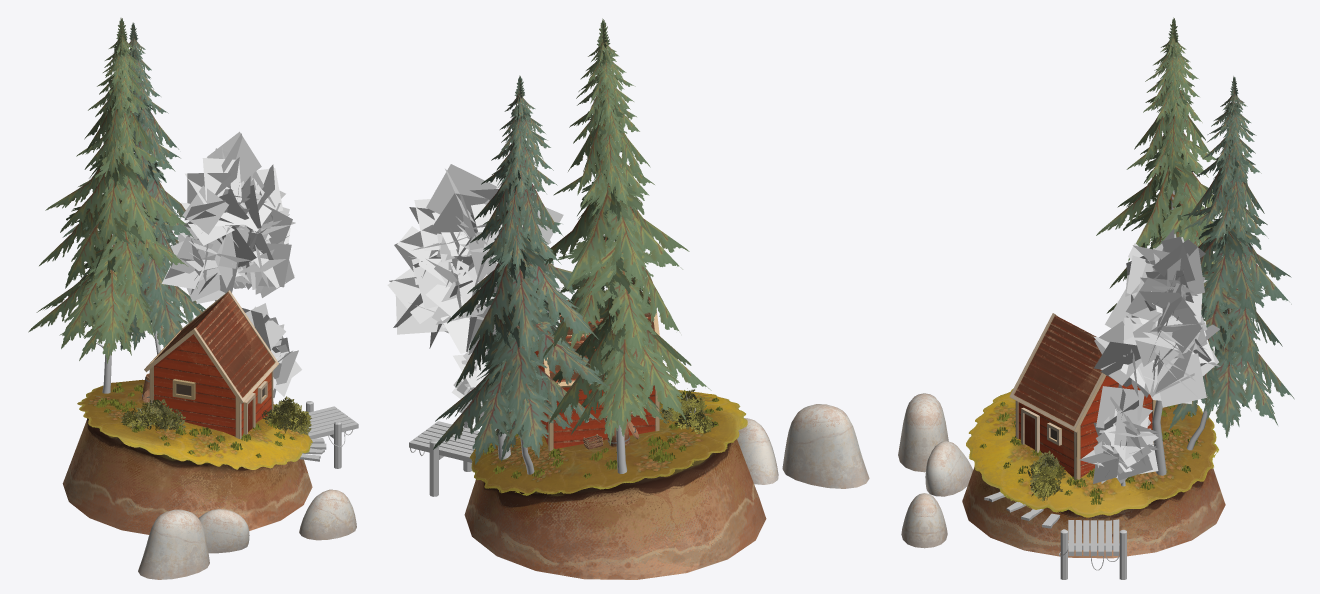
3 views of the same model, side by side, from view 1: azimuth 30°, elevation 25°; view 2: azimuth 150°, elevation 25°; view 3: azimuth 270°, elevation 25° (orthographic). The views are drawn at different scales.
Visible parts, largest first — view 1: Plane.016, Cylinder.002, Plane.089, Cube.016, Cylinder.001, Cube.010, Plane.002, Plane.305, Plane.051, Cube.015, Plane.014; view 2: Plane.016, Plane.002, Cylinder.002, Plane.089, Cylinder.001, Cube.010, Cube.016, Cube.015, Plane.014, Plane.305, Plane.051, Cylinder.008; view 3: Plane.002, Plane.089, Cylinder.001, Plane.016, Cube.016, Cylinder.002, Cube.010, Plane.051, Cube.015, Plane.014, Plane.305, Cylinder.008.
Boxes of the visible parts, box(x1,y1,x2,y2) form: Plane.016: box(28, 18, 190, 363); Cylinder.002: box(62, 418, 312, 534); Plane.089: box(161, 131, 295, 303); Cube.016: box(144, 290, 278, 438); Cylinder.001: box(77, 379, 312, 469); Cube.010: box(138, 489, 356, 579); Plane.002: box(62, 22, 205, 350); Plane.305: box(121, 396, 311, 435); Plane.051: box(242, 303, 301, 397); Cube.015: box(299, 401, 358, 468); Plane.014: box(96, 382, 294, 457); Plane.016: box(543, 18, 711, 445); Plane.002: box(433, 75, 610, 464); Cylinder.002: box(464, 439, 766, 579); Plane.089: box(387, 164, 563, 354); Cylinder.001: box(469, 390, 747, 495); Cube.010: box(737, 404, 869, 488); Cube.016: box(534, 296, 662, 450); Cube.015: box(409, 421, 479, 496); Plane.014: box(483, 390, 722, 478); Plane.305: box(659, 388, 716, 433); Plane.051: box(451, 347, 496, 430); Cylinder.008: box(408, 190, 695, 474); Plane.002: box(1169, 76, 1294, 437); Plane.089: box(1093, 228, 1220, 407); Cylinder.001: box(966, 388, 1218, 517); Plane.016: box(1096, 17, 1241, 313); Cube.016: box(1009, 313, 1156, 480); Cylinder.002: box(962, 467, 1225, 558); Cube.010: box(898, 393, 973, 548); Plane.051: box(1079, 384, 1159, 483); Cube.015: box(984, 492, 1126, 579); Plane.014: box(979, 401, 1200, 504); Plane.305: box(1027, 450, 1066, 501); Cylinder.008: box(1045, 101, 1234, 486).
Size of what is drawn, in the model's own units: 152 by 229 by 177.
